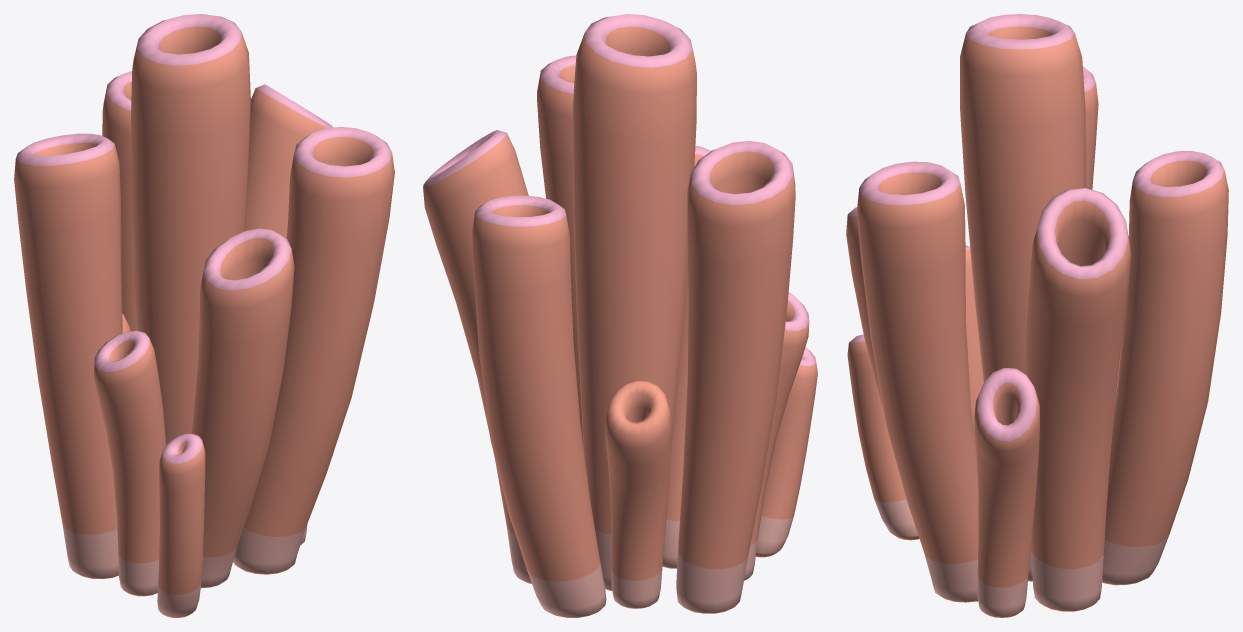
File: Coral_C_03.fbx
3 renders of one model, left to right at view 1: azimuth 30°, elevation 25°; view 2: azimuth 150°, elevation 25°; view 3: azimuth 270°, elevation 25°, orthographic. The views are drawn at different scales.
Visible parts, largest first — view 1: Coral_C_03_LOD0; view 2: Coral_C_03_LOD0; view 3: Coral_C_03_LOD0.
Boxes of the visible parts, x1=… form: Coral_C_03_LOD0: x1=14, y1=14, x2=394, y2=617; Coral_C_03_LOD0: x1=423, y1=14, x2=817, y2=617; Coral_C_03_LOD0: x1=846, y1=14, x2=1228, y2=617.
Size of what is drawn, in the model's own units: 428 by 653 by 415.
